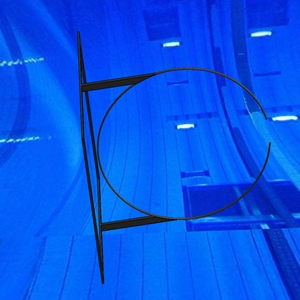circle: (75, 29, 273, 285)
